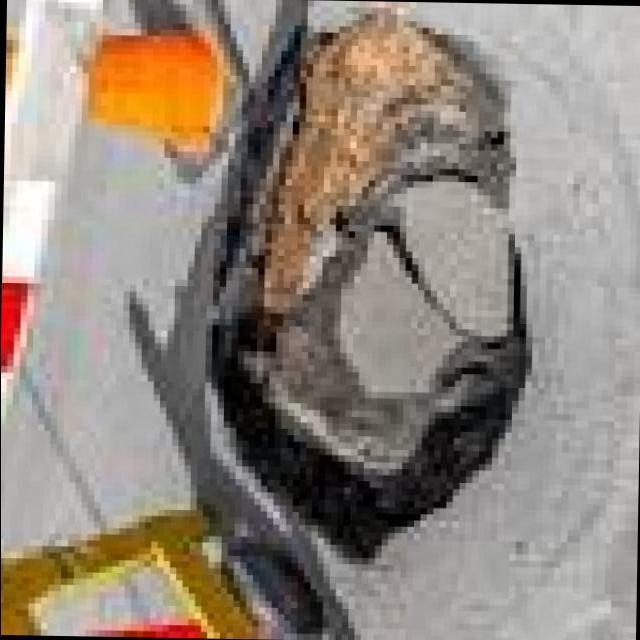pothole: (214, 9, 528, 568)
